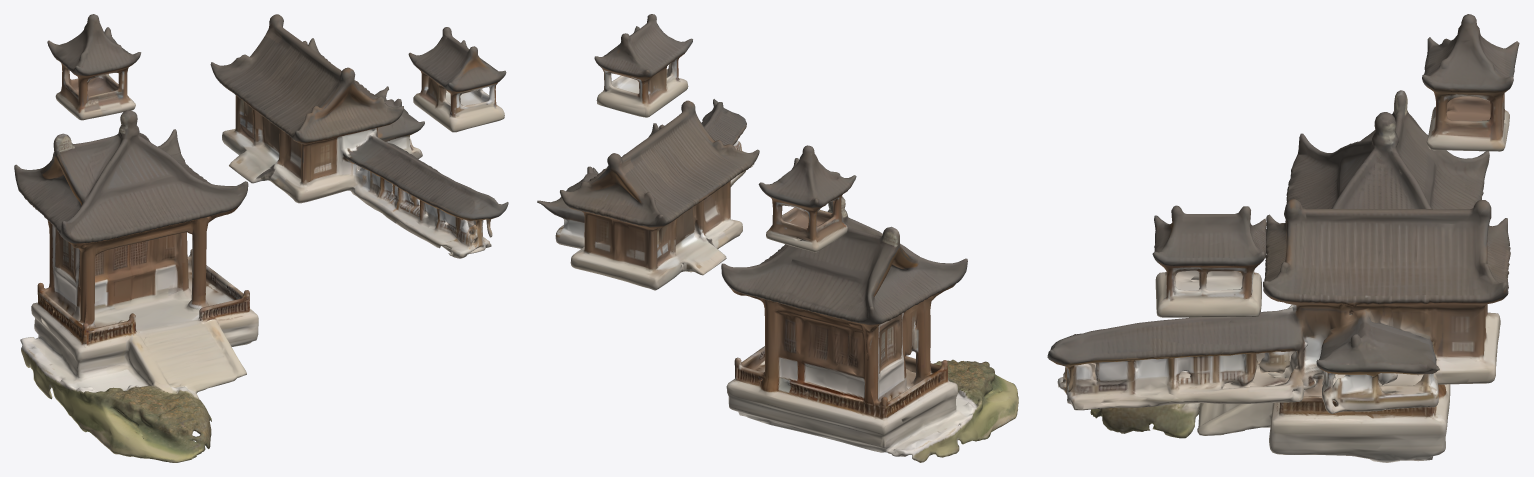
3 renders of one model, left to right at view 1: azimuth 30°, elevation 25°; view 2: azimuth 150°, elevation 25°; view 3: azimuth 270°, elevation 25°, orthographic. The views are drawn at different scales.
Parts seen in each view (by area): view 1: material.001; view 2: material.001; view 3: material.001.
Boxes of the visible parts, x1,y1,x2,y2 form: material.001: (14, 14, 508, 462); material.001: (537, 14, 1018, 462); material.001: (1047, 14, 1519, 462).
Size of the model in its own units: 0.9085 by 0.7388 by 0.7263.
1 material, 1 textured.
